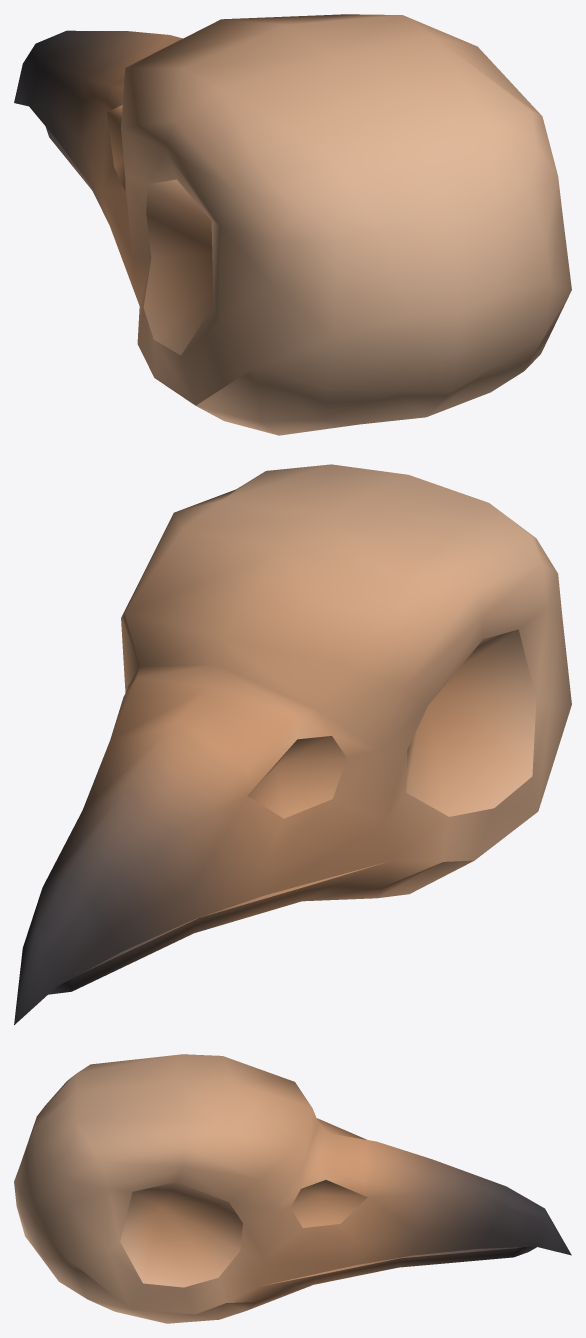
Rendered from SkullRaven.fbx.
The picture shows the model from 3 angles, top to bottom: view 1: azimuth 30°, elevation 25°; view 2: azimuth 150°, elevation 25°; view 3: azimuth 270°, elevation 25°; orthographic projection. The views are drawn at different scales.
Visible parts, largest first — view 1: SkullRaven; view 2: SkullRaven; view 3: SkullRaven.
Part boxes in pixels (left/top/right/bottom): SkullRaven: left=14, top=14, right=571, bottom=435; SkullRaven: left=14, top=464, right=571, bottom=1024; SkullRaven: left=14, top=1054, right=571, bottom=1323.
Size of the model in its own units: 9.39 by 8.66 by 20.62.
